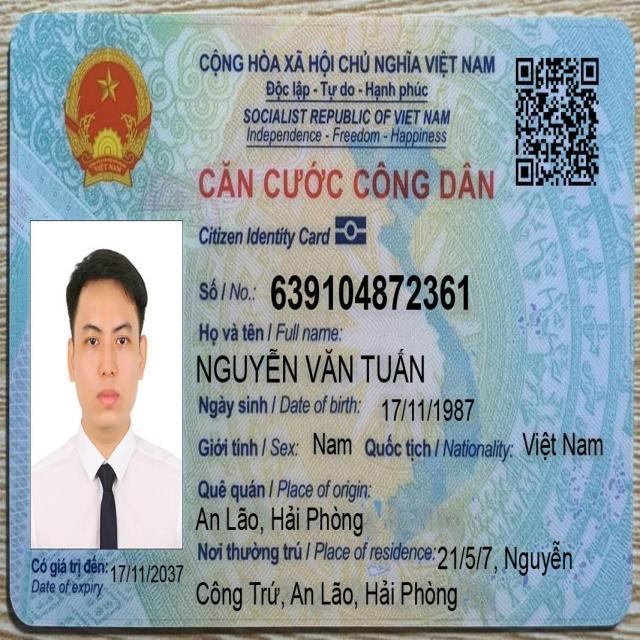current_place: (194, 576, 460, 616), (435, 536, 574, 579)
dob: (379, 395, 477, 426)
expire_date: (109, 559, 186, 588)
gender: (311, 428, 355, 462)
id: (268, 269, 473, 320)
name: (194, 345, 428, 391)
nationality: (520, 428, 606, 465)
origin_place: (194, 503, 367, 539)
